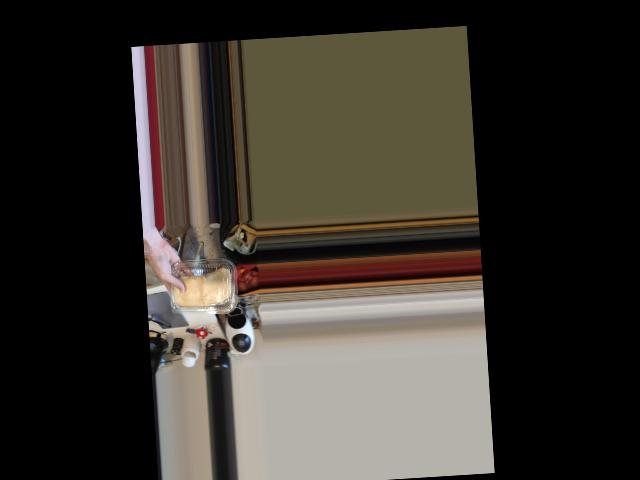cheese: (170, 254, 234, 321)
